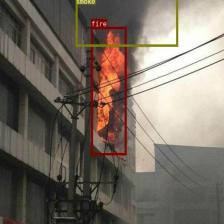fire: (91, 27, 126, 154)
smoke: (75, 0, 178, 46)
